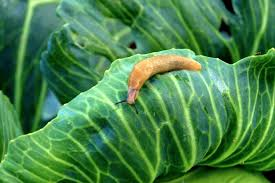slug: (119, 57, 200, 109)
